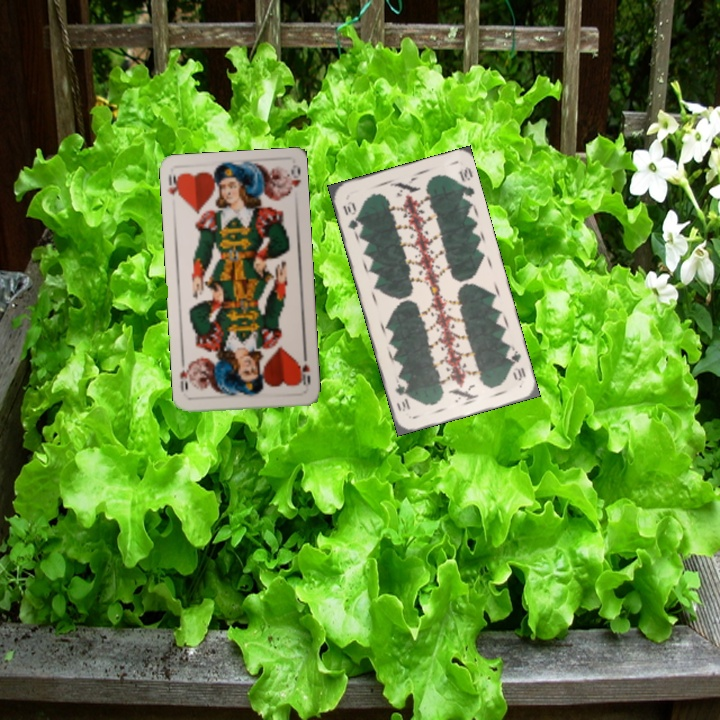G10: (503, 344, 529, 383), (339, 197, 361, 232)
HO: (294, 350, 313, 388), (164, 170, 184, 200)
